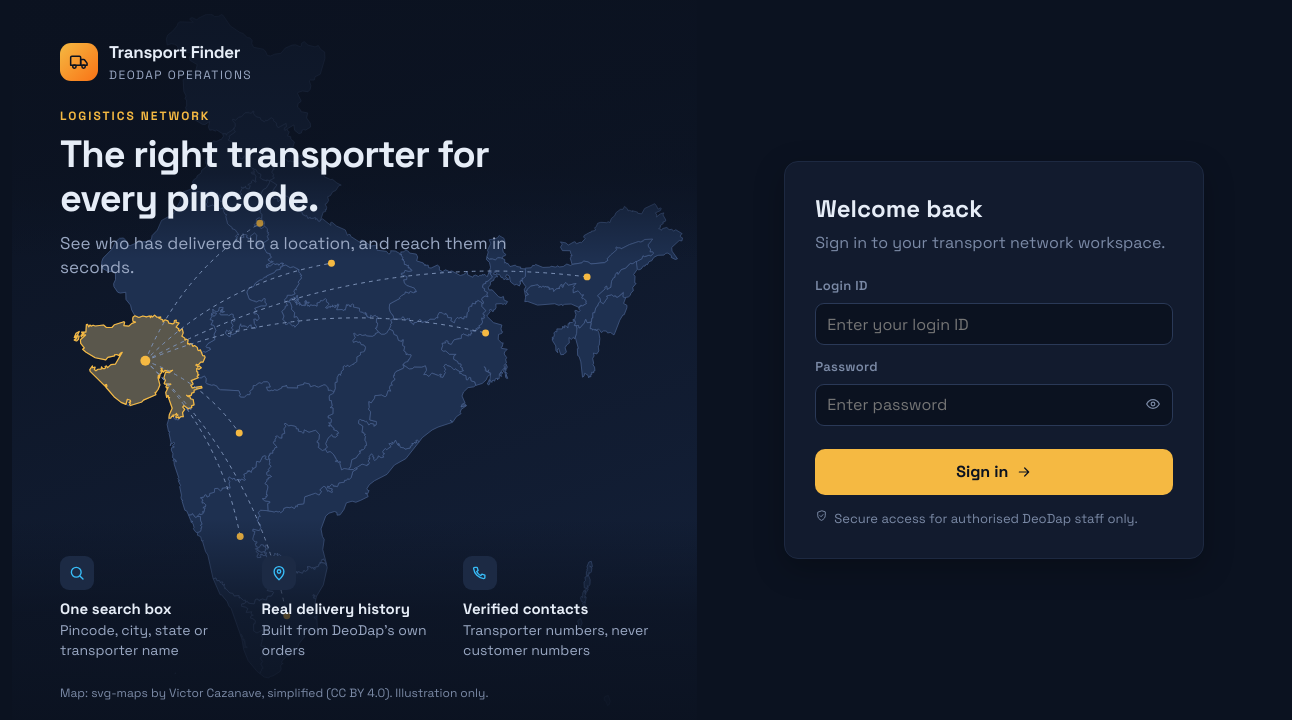
Settings navigation › is also in the account menu
Type "User_deodap@123" into the field with placeholder "Enter your login ID" at (994, 324), box top-left (815, 303), bottom-right (1173, 345)
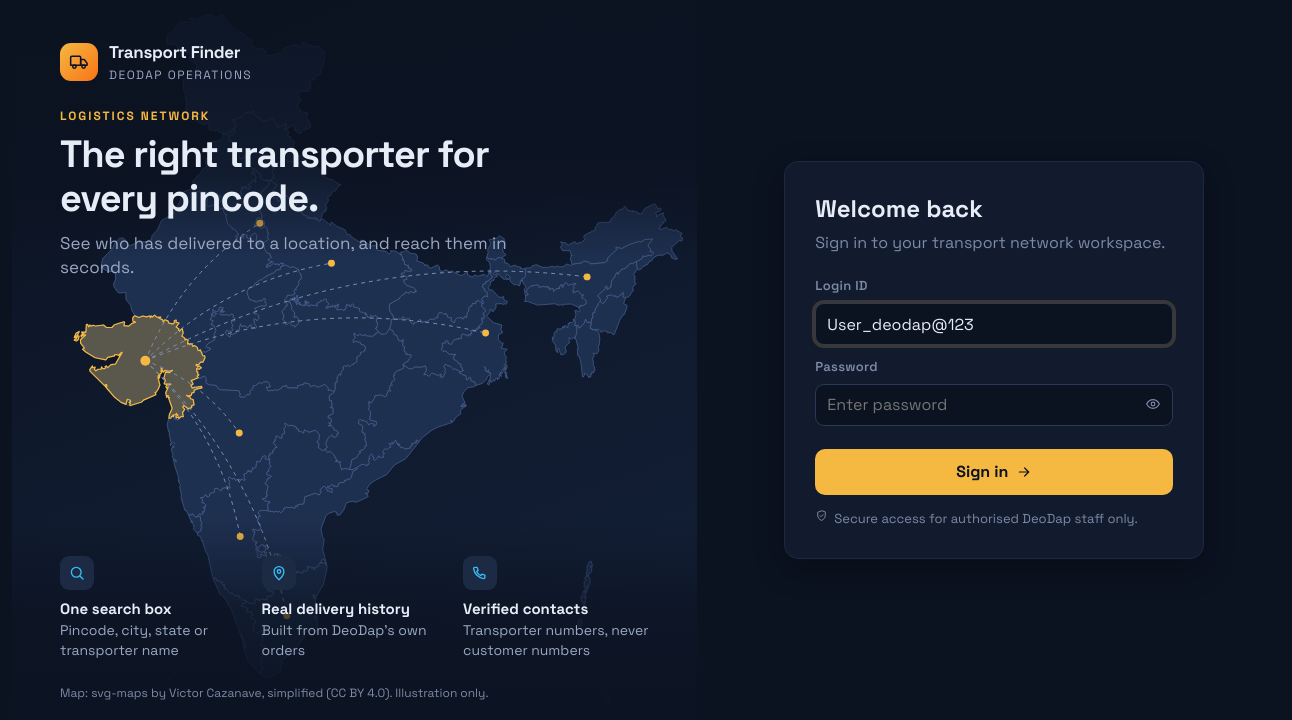
Type "User@123" into the password field with placeholder "Enter password" at (994, 405), box top-left (815, 384), bottom-right (1173, 426)
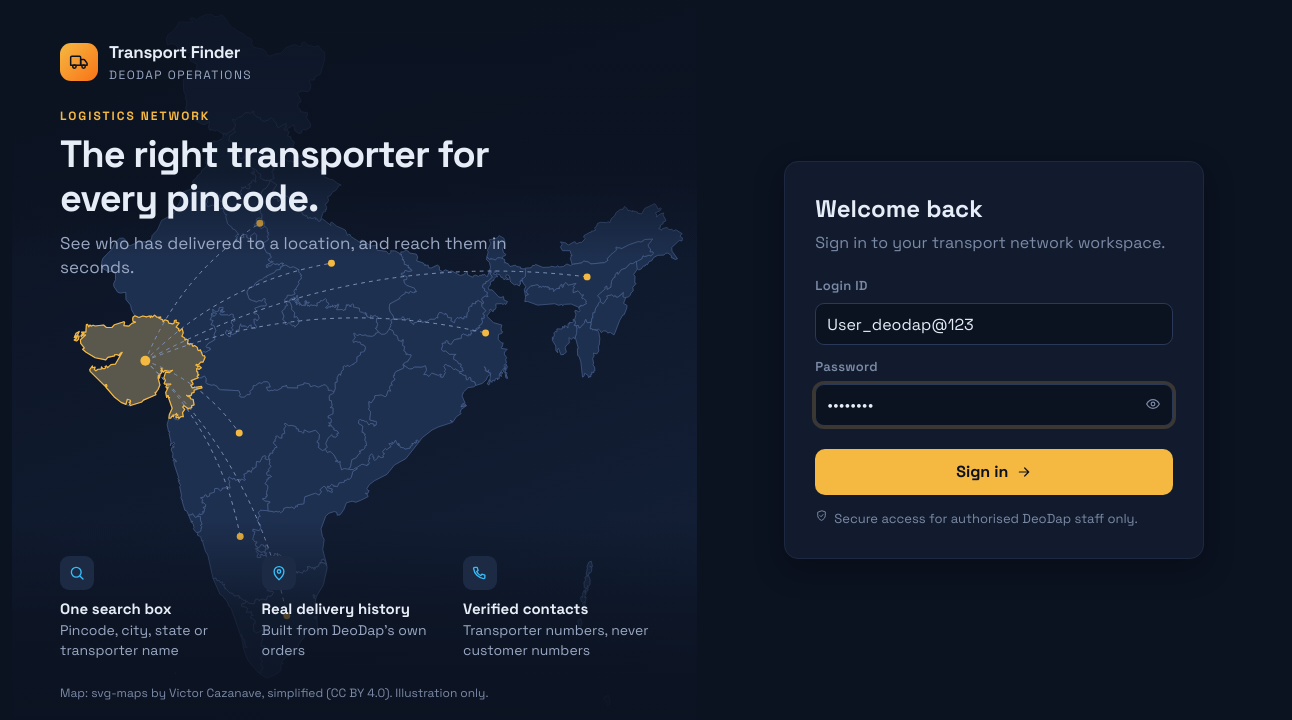
Click the button "Sign in" at (994, 472), box top-left (815, 449), bottom-right (1173, 495)
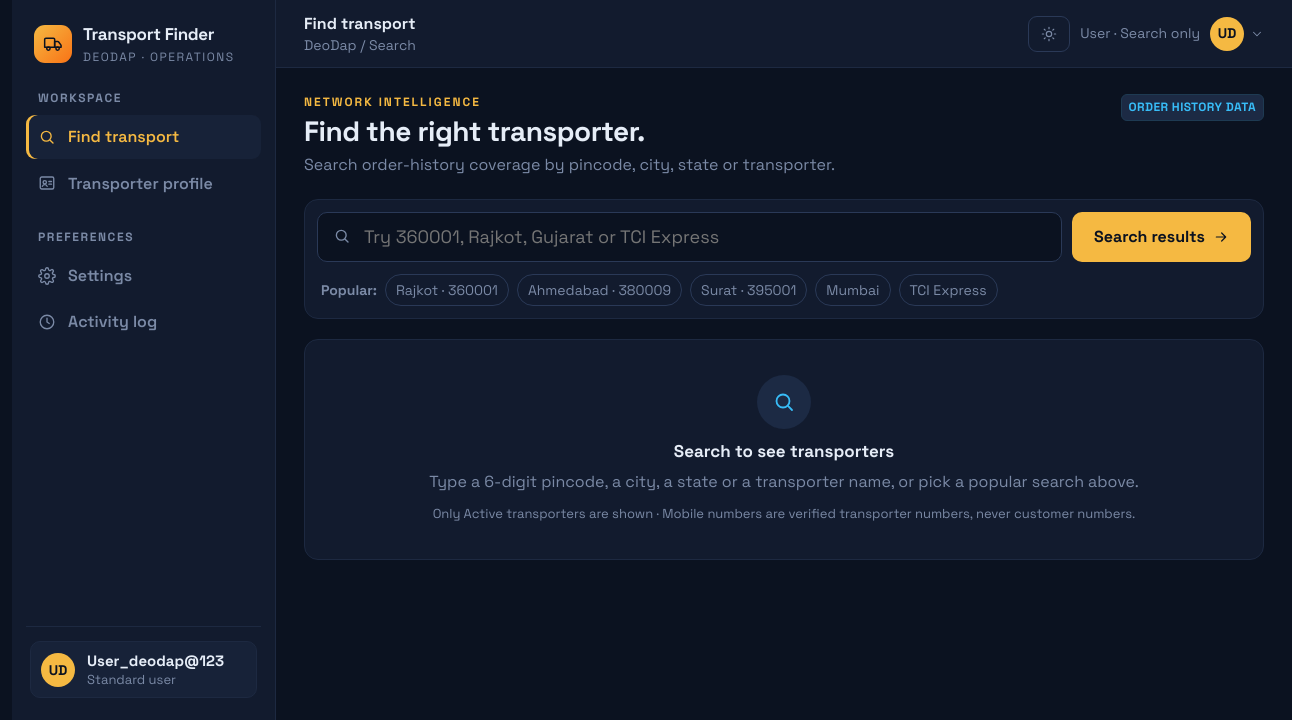
Now the heading "Find the right transporter." is shown, box top-left (304, 113), bottom-right (645, 149)
Click the button with aria-label "Account menu" at (1237, 34), box top-left (1210, 16), bottom-right (1264, 50)
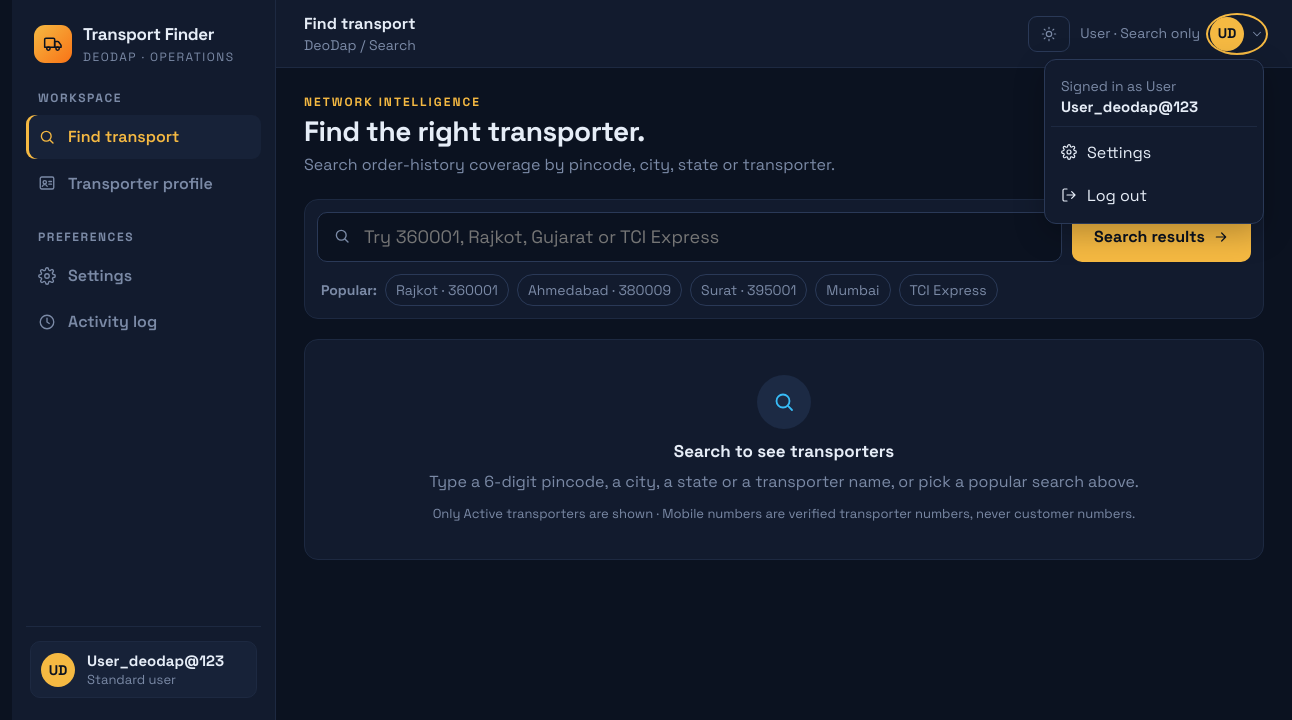
Click the button "Settings" below "Signed in as" at (1154, 152), box top-left (1051, 130), bottom-right (1257, 174)
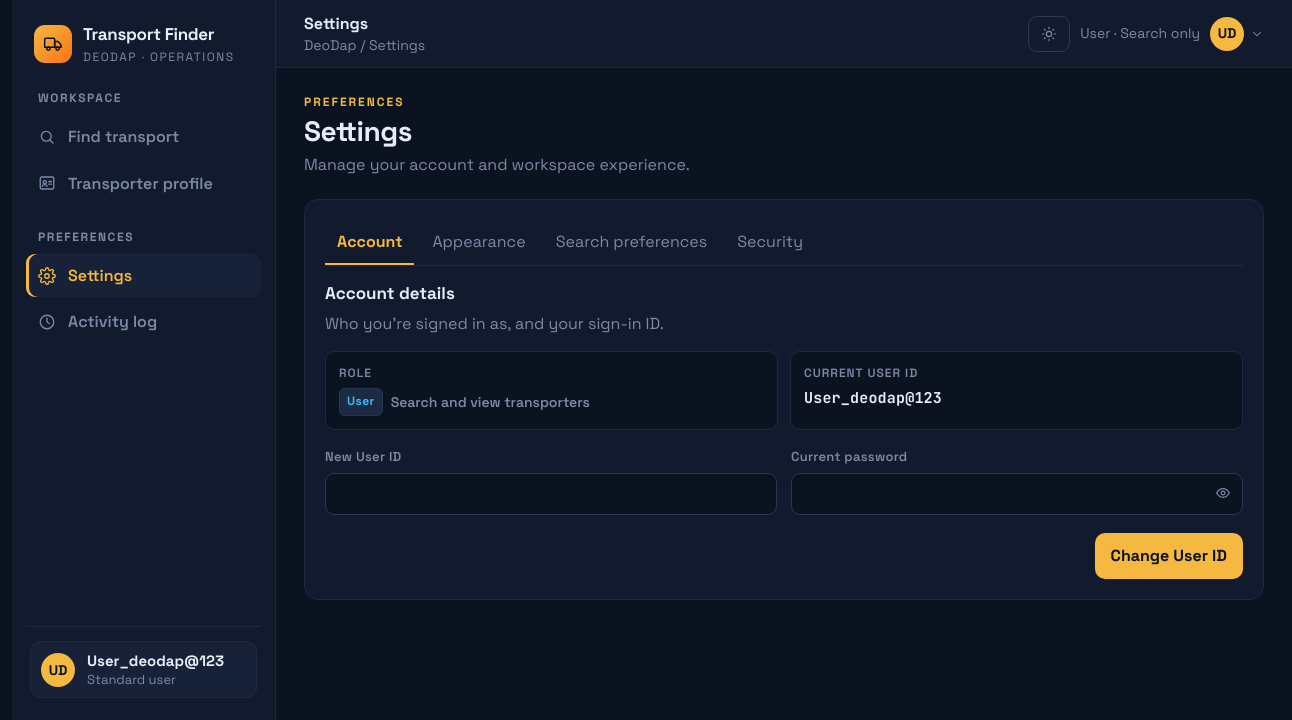
Now the heading "Settings" is shown, box top-left (304, 113), bottom-right (412, 149)
